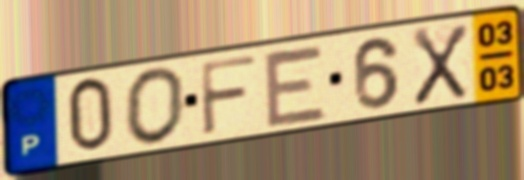0: (63, 74, 117, 158)
6: (352, 33, 402, 112)
E: (260, 43, 331, 130)
F: (197, 53, 260, 139)
O: (121, 64, 188, 148)
X: (410, 21, 471, 109)
